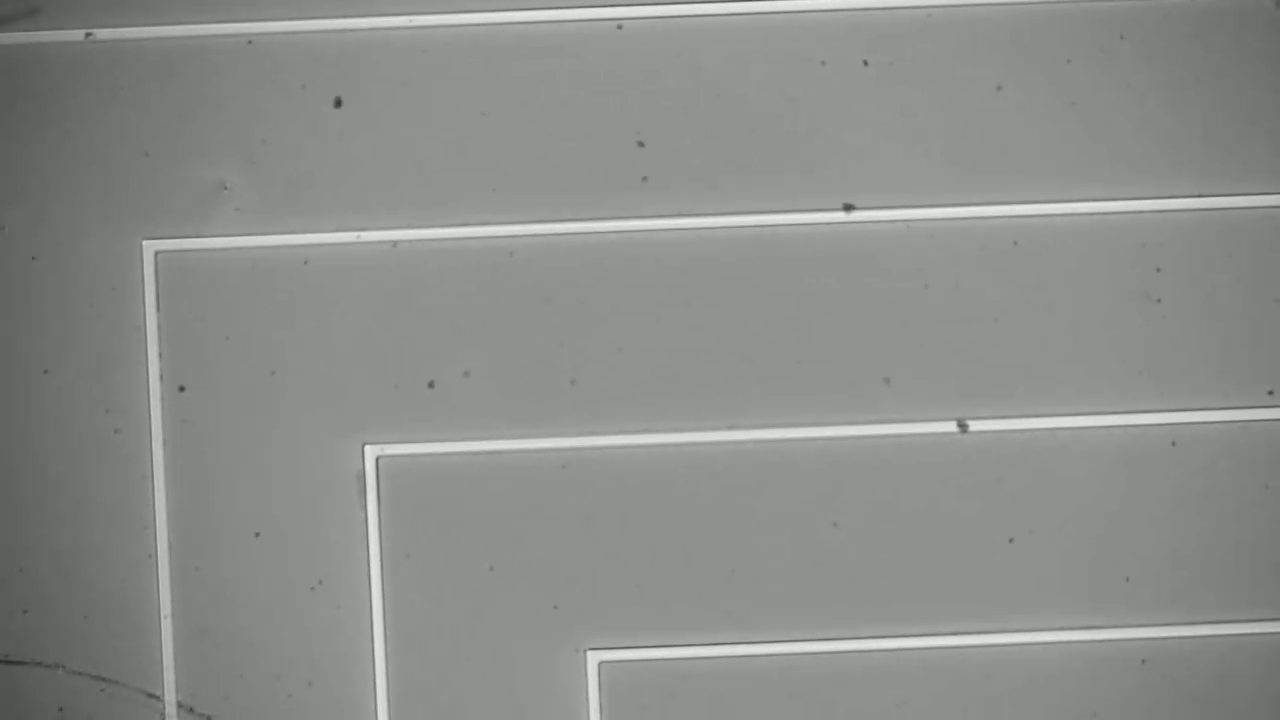scratch: (1, 651, 210, 717)
stains_enbedded: (948, 405, 984, 443), (839, 184, 862, 228)
